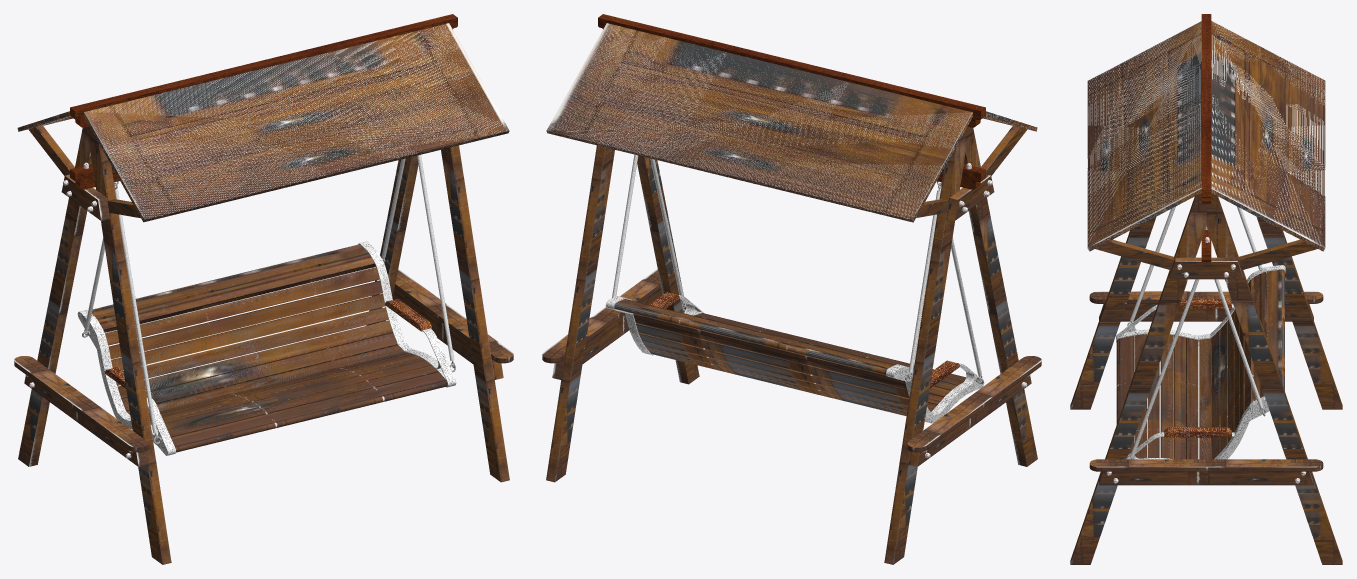
3 views of the same model, side by side, from view 1: azimuth 30°, elevation 25°; view 2: azimuth 150°, elevation 25°; view 3: azimuth 270°, elevation 25° (orthographic). The views are drawn at different scales.
Parts seen in each view (by area): view 1: mesh5_mesh5-geometry, mesh228_mesh228-geometry, mesh230_mesh230-geometry, mesh226_mesh226-geometry, mesh16_mesh16-geometry, mesh20_mesh20-geometry, mesh2_mesh2-geometry, mesh17_mesh17-geometry, mesh26_mesh26-geometry, mesh15_mesh15-geometry, mesh21_mesh21-geometry, mesh12_mesh12-geometry (+16 smaller); view 2: mesh6_mesh6-geometry, mesh230_mesh230-geometry, mesh228_mesh228-geometry, mesh226_mesh226-geometry, mesh2_mesh2-geometry, mesh19_mesh19-geometry, mesh12_mesh12-geometry, mesh26_mesh26-geometry, mesh238_mesh238-geometry, mesh23_mesh23-geometry, mesh17_mesh17-geometry, mesh15_mesh15-geometry (+9 smaller); view 3: mesh6_mesh6-geometry, mesh5_mesh5-geometry, mesh230_mesh230-geometry, mesh228_mesh228-geometry, mesh238_mesh238-geometry, mesh226_mesh226-geometry, mesh2_mesh2-geometry, mesh19_mesh19-geometry, mesh236_mesh236-geometry, mesh13_mesh13-geometry, mesh24_mesh24-geometry, mesh18_mesh18-geometry (+20 smaller).
Boxes of the visible parts, <box> form: mesh5_mesh5-geometry: <box>84,23,509,222</box>; mesh228_mesh228-geometry: <box>18,126,509,482</box>; mesh230_mesh230-geometry: <box>90,128,418,564</box>; mesh226_mesh226-geometry: <box>14,269,513,452</box>; mesh16_mesh16-geometry: <box>171,372,447,452</box>; mesh20_mesh20-geometry: <box>98,254,375,332</box>; mesh2_mesh2-geometry: <box>70,14,457,127</box>; mesh17_mesh17-geometry: <box>117,320,392,398</box>; mesh26_mesh26-geometry: <box>108,280,382,359</box>; mesh15_mesh15-geometry: <box>121,333,397,411</box>; mesh21_mesh21-geometry: <box>105,267,379,345</box>; mesh12_mesh12-geometry: <box>111,294,384,370</box>; mesh6_mesh6-geometry: <box>546,23,972,222</box>; mesh230_mesh230-geometry: <box>546,126,1037,482</box>; mesh228_mesh228-geometry: <box>637,130,965,564</box>; mesh226_mesh226-geometry: <box>542,269,1041,452</box>; mesh2_mesh2-geometry: <box>598,14,985,127</box>; mesh19_mesh19-geometry: <box>614,299,893,374</box>; mesh12_mesh12-geometry: <box>635,323,909,398</box>; mesh26_mesh26-geometry: <box>633,313,906,388</box>; mesh238_mesh238-geometry: <box>552,288,1031,466</box>; mesh23_mesh23-geometry: <box>638,332,909,405</box>; mesh17_mesh17-geometry: <box>642,341,907,411</box>; mesh15_mesh15-geometry: <box>646,348,906,415</box>; mesh6_mesh6-geometry: <box>1211,21,1325,251</box>; mesh5_mesh5-geometry: <box>1087,21,1201,251</box>; mesh230_mesh230-geometry: <box>1070,193,1342,564</box>; mesh228_mesh228-geometry: <box>1070,193,1342,564</box>; mesh238_mesh238-geometry: <box>1099,304,1313,485</box>; mesh226_mesh226-geometry: <box>1089,291,1323,471</box>; mesh2_mesh2-geometry: <box>1201,14,1211,203</box>; mesh19_mesh19-geometry: <box>1267,269,1284,390</box>; mesh236_mesh236-geometry: <box>1169,257,1243,279</box>; mesh13_mesh13-geometry: <box>1173,335,1185,459</box>; mesh24_mesh24-geometry: <box>1199,338,1211,459</box>; mesh18_mesh18-geometry: <box>1186,337,1198,459</box>.
Bounding box in the file's own units: 0.6377 × 0.6475 × 0.4172.
